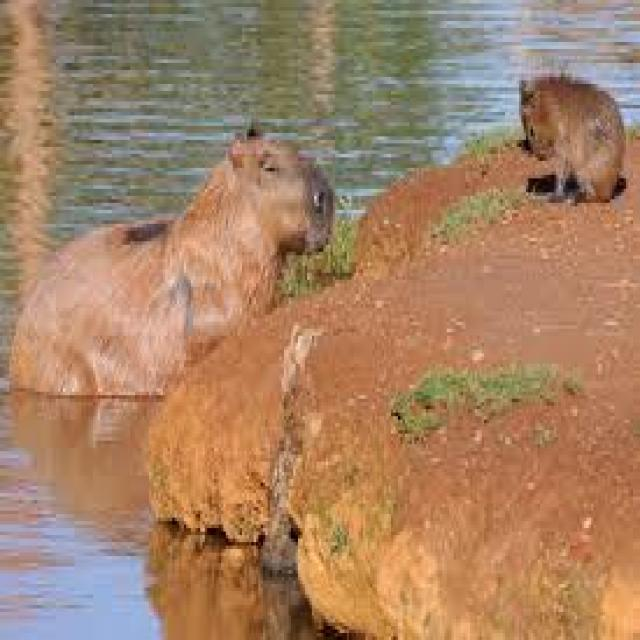capy: (12, 124, 336, 402), (515, 69, 627, 208)
